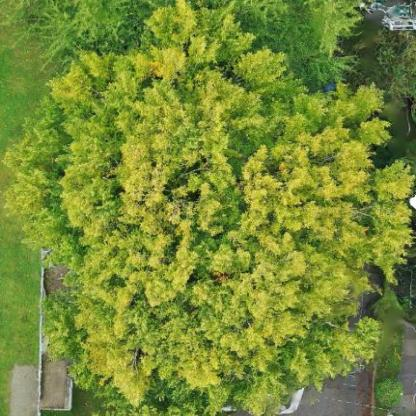Coniferous Tree: (228, 0, 372, 82), (0, 0, 146, 70)
Deciduous Tree: (2, 35, 406, 413)
